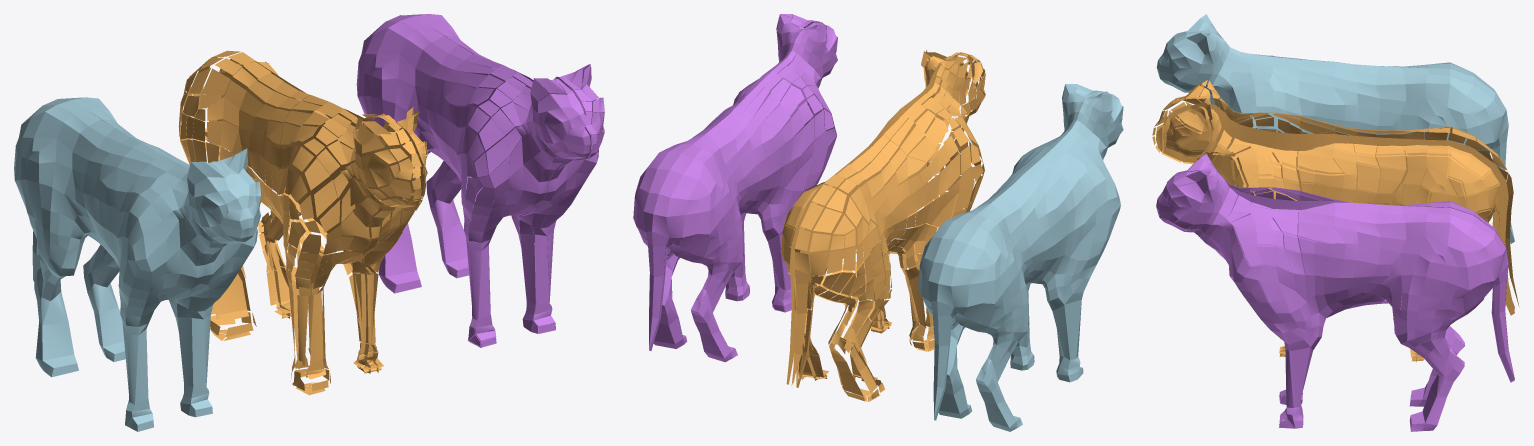
The model's file is carrier-coat-recovery-comparison.glb.
The picture shows the model from 3 angles, left to right: view 1: azimuth 30°, elevation 25°; view 2: azimuth 150°, elevation 25°; view 3: azimuth 270°, elevation 25°; orthographic projection. The views are drawn at different scales.
Visible parts, largest first — view 1: AUTHORED HIDDEN CARRIER, SYNTHETIC OBSERVED COAT, UNIFORM-INSET RECOVERY; view 2: AUTHORED HIDDEN CARRIER, SYNTHETIC OBSERVED COAT, UNIFORM-INSET RECOVERY; view 3: UNIFORM-INSET RECOVERY, SYNTHETIC OBSERVED COAT, AUTHORED HIDDEN CARRIER.
Part boxes in pixels (x1,y1,x2,y2): AUTHORED HIDDEN CARRIER: (14, 97, 260, 431); SYNTHETIC OBSERVED COAT: (178, 50, 427, 395); UNIFORM-INSET RECOVERY: (356, 14, 604, 347); AUTHORED HIDDEN CARRIER: (918, 84, 1123, 431); SYNTHETIC OBSERVED COAT: (781, 50, 985, 401); UNIFORM-INSET RECOVERY: (633, 14, 837, 362); UNIFORM-INSET RECOVERY: (1156, 153, 1514, 431); SYNTHETIC OBSERVED COAT: (1152, 80, 1519, 361); AUTHORED HIDDEN CARRIER: (1156, 14, 1514, 243).
Bounding box in the file's own units: 76.97 × 49.68 × 63.71.
